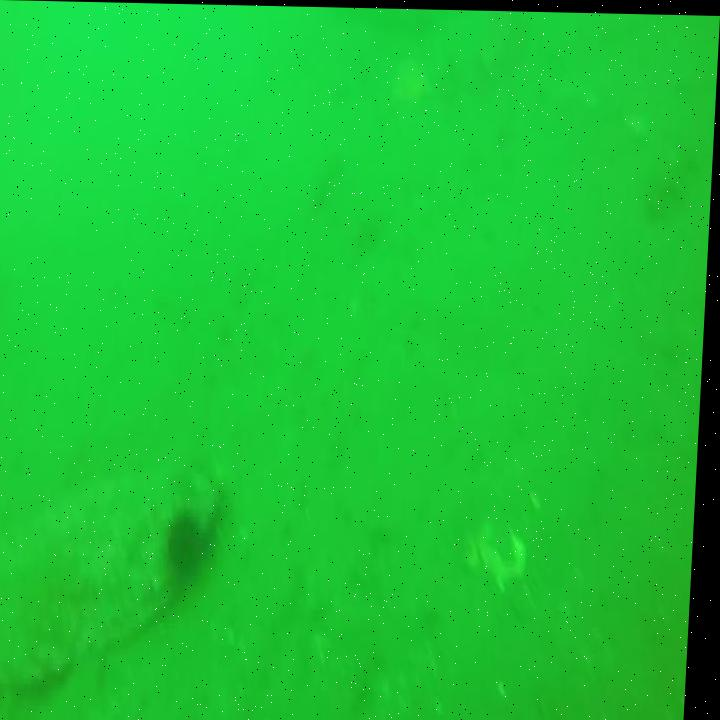echinus: (163, 504, 211, 571)
scallop: (478, 510, 539, 581)
